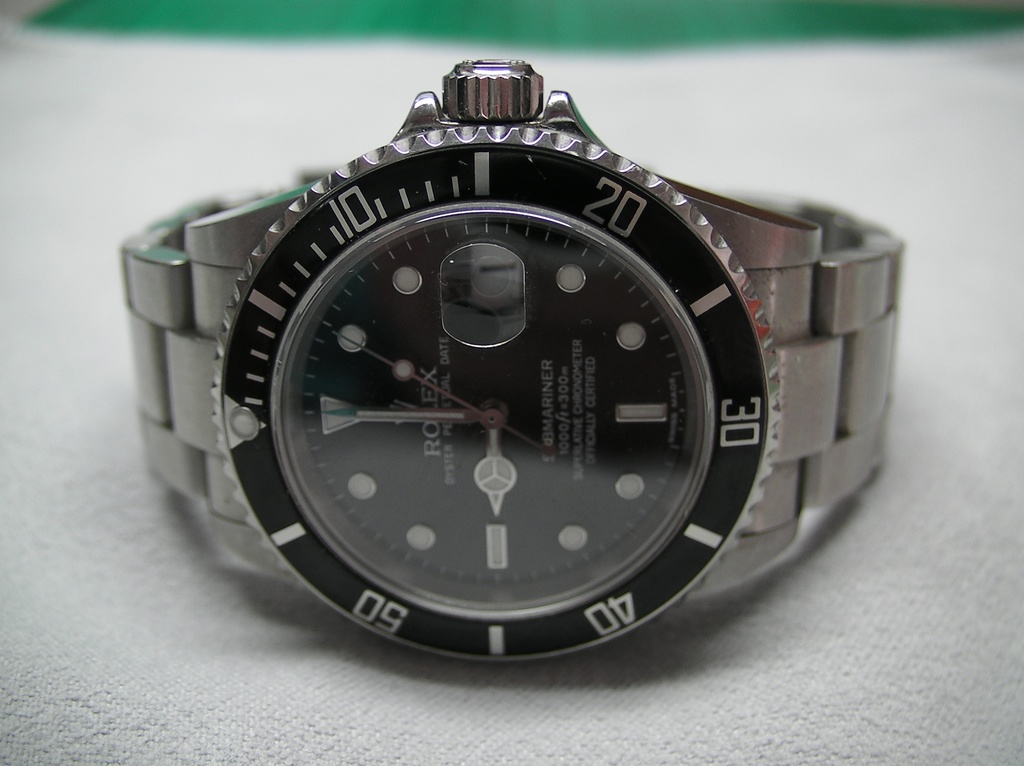watch: (117, 51, 911, 668)
